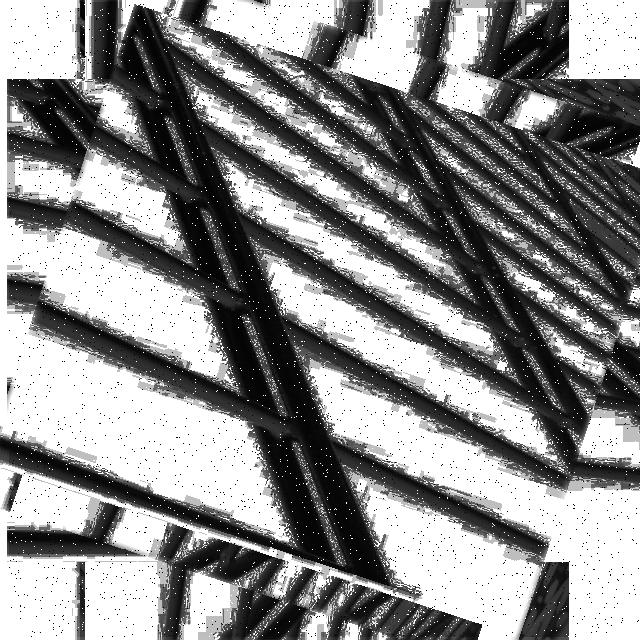fences: (9, 2, 640, 637)
